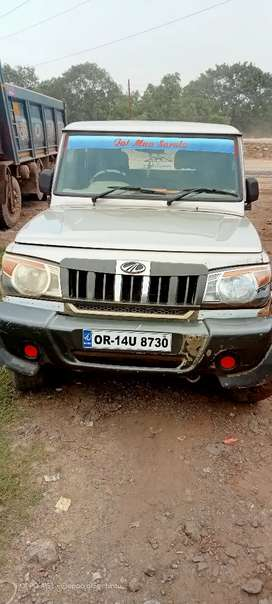OR14U8730: (83, 331, 171, 351)
